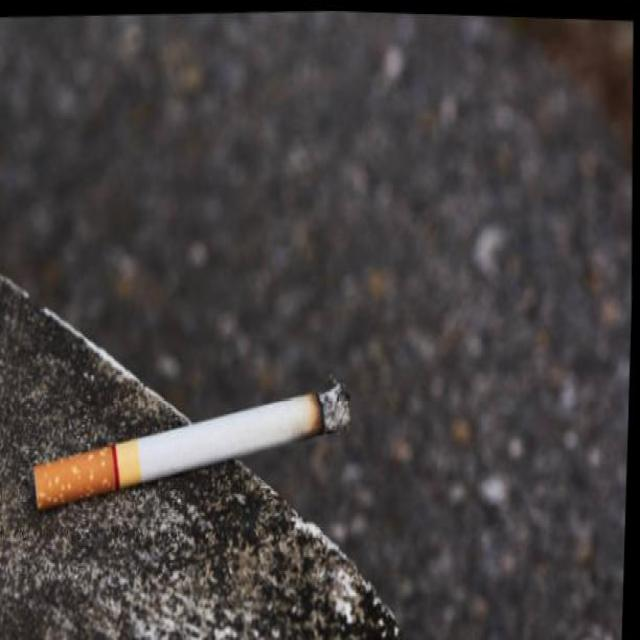cigarette: (30, 362, 360, 523)
